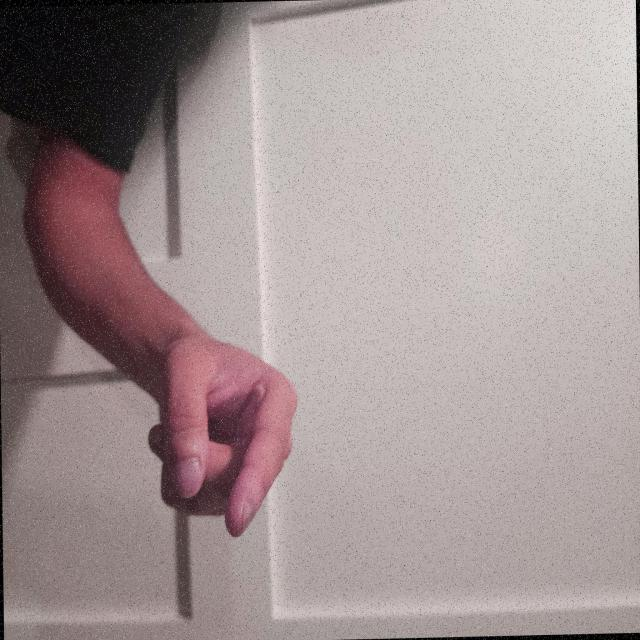Z: (400, 444, 569, 638)
